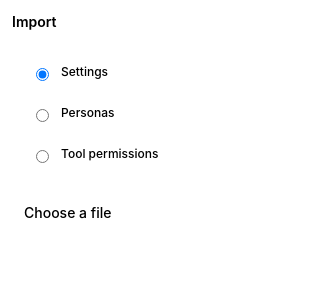
Scenario: one of our files opened on the wrong screen says which
This screenshot has width=332, height=303.
Click the button "Choose a file" at (68, 213), box [12, 195, 123, 231]
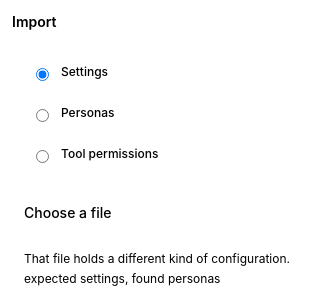
Result: the message with test id "portable-import-rejection" shows "a different kind of configuration" at [24, 251, 290, 266]
Result: the message with test id "portable-import-rejection" shows "expected settings, found personas" at [24, 271, 220, 286]
